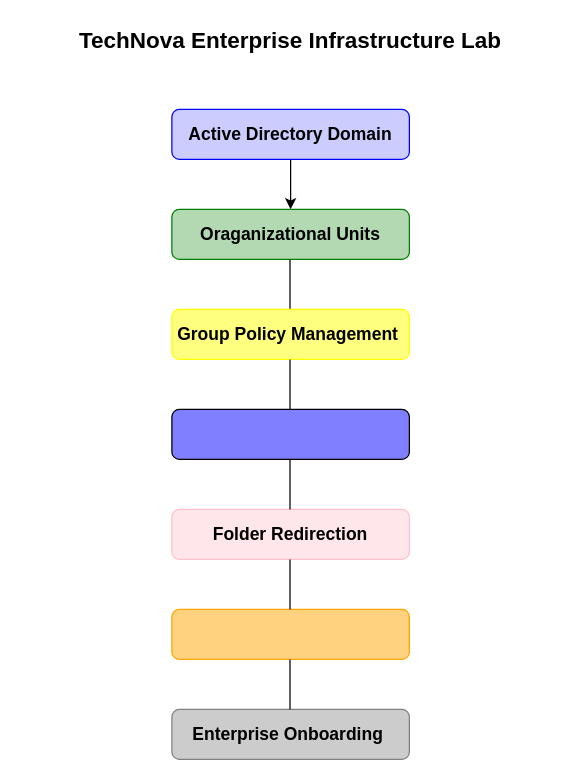
Image size: 580x781. Some labels were removed from this diagram. The centre of each missing label's shape, as x and y in pixels:
"Files Shares & NTFS" belongs at pixel 290 433.
"Powershell Automation" belongs at pixel 290 633.
